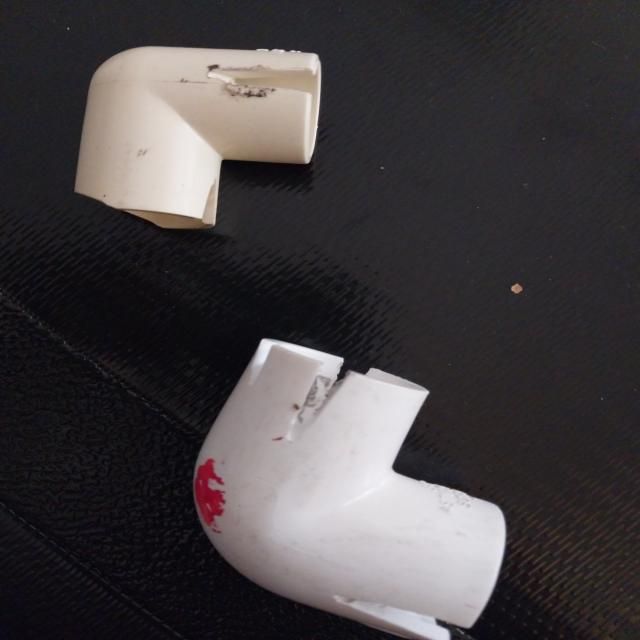Defective: (333, 582, 452, 636), (199, 56, 325, 96), (296, 360, 354, 436), (194, 458, 235, 532), (195, 159, 221, 230)
L Joint: (187, 343, 510, 640), (68, 46, 331, 233)
